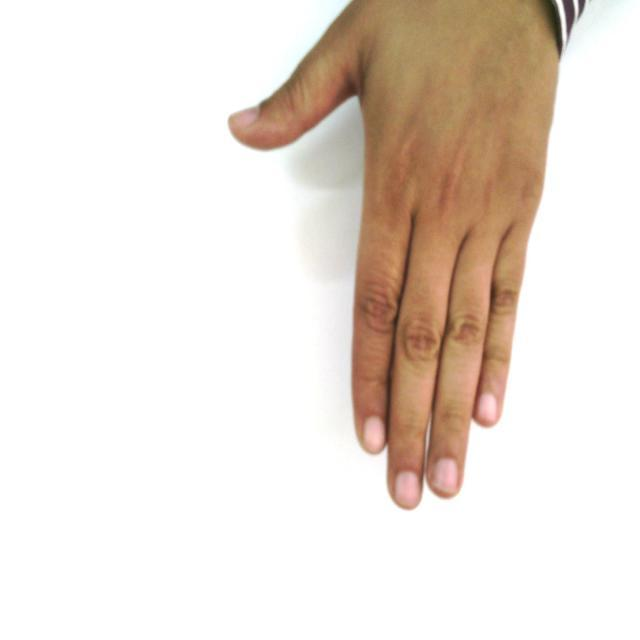Fingernail: (434, 459, 459, 494), (396, 472, 419, 506), (364, 417, 385, 453), (230, 108, 259, 130), (476, 394, 497, 424)
